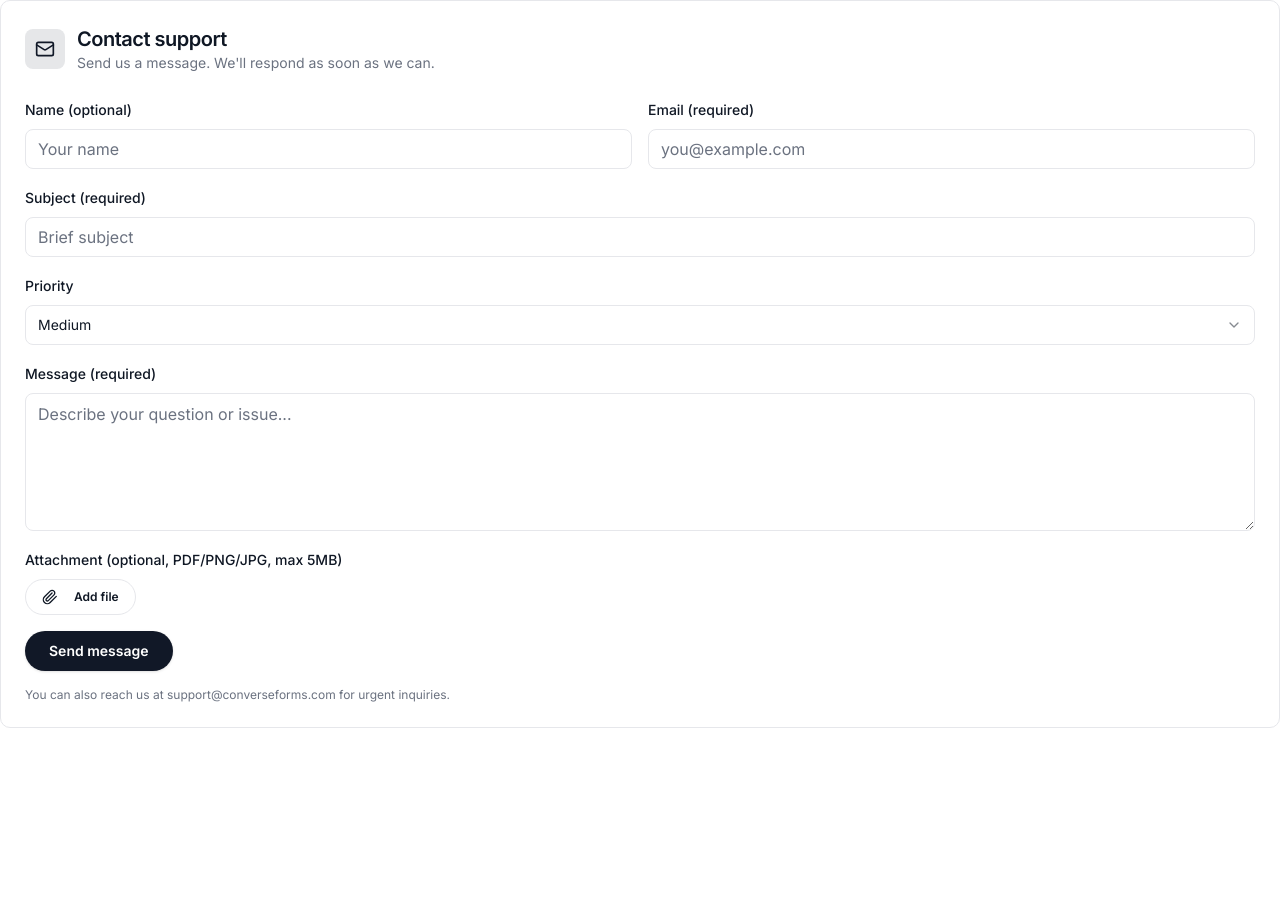
Scenario: ContactSupportForm › shows validation error when required email is empty
The width and height of the screenshot is (1280, 900).
Step 1. Type "Test subject" into the field labelled "Subject (required)" → (640, 237), box top-left (25, 217), bottom-right (1255, 257)
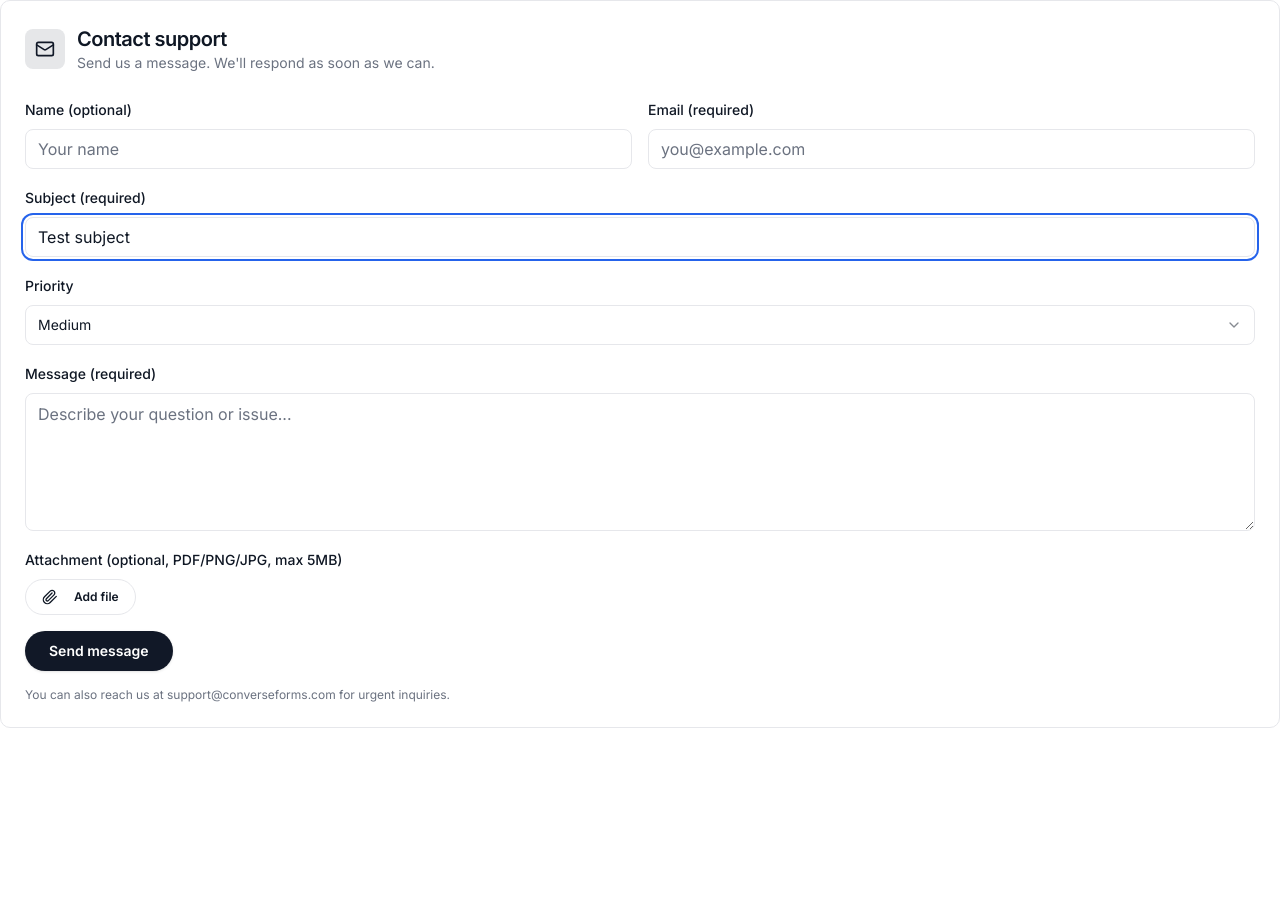
Step 2. Type "Test message" into the text box labelled "Message (required)" → (640, 462), box top-left (25, 393), bottom-right (1255, 531)
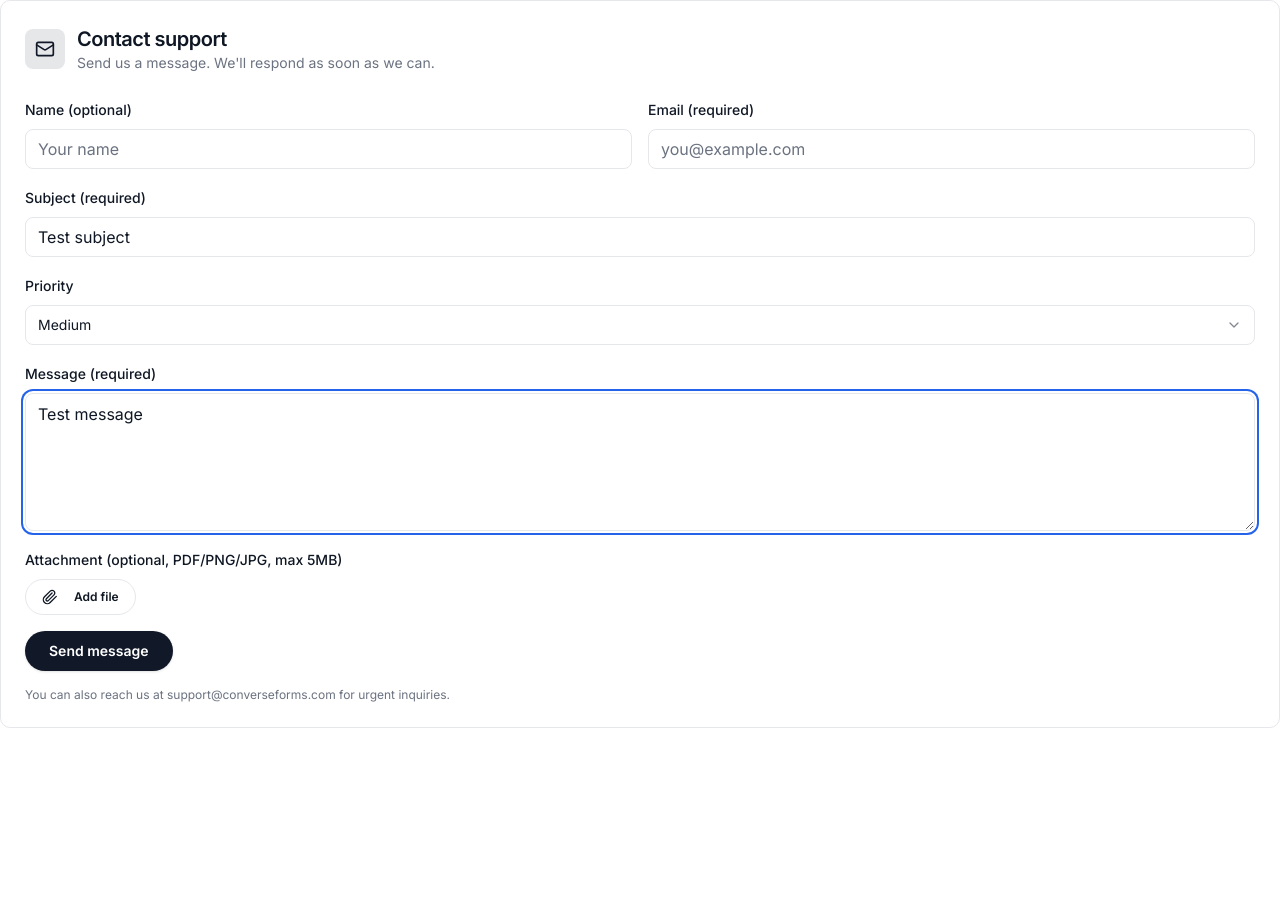
Step 3. Click the button "Send message" → (99, 651), box top-left (25, 631), bottom-right (173, 671)
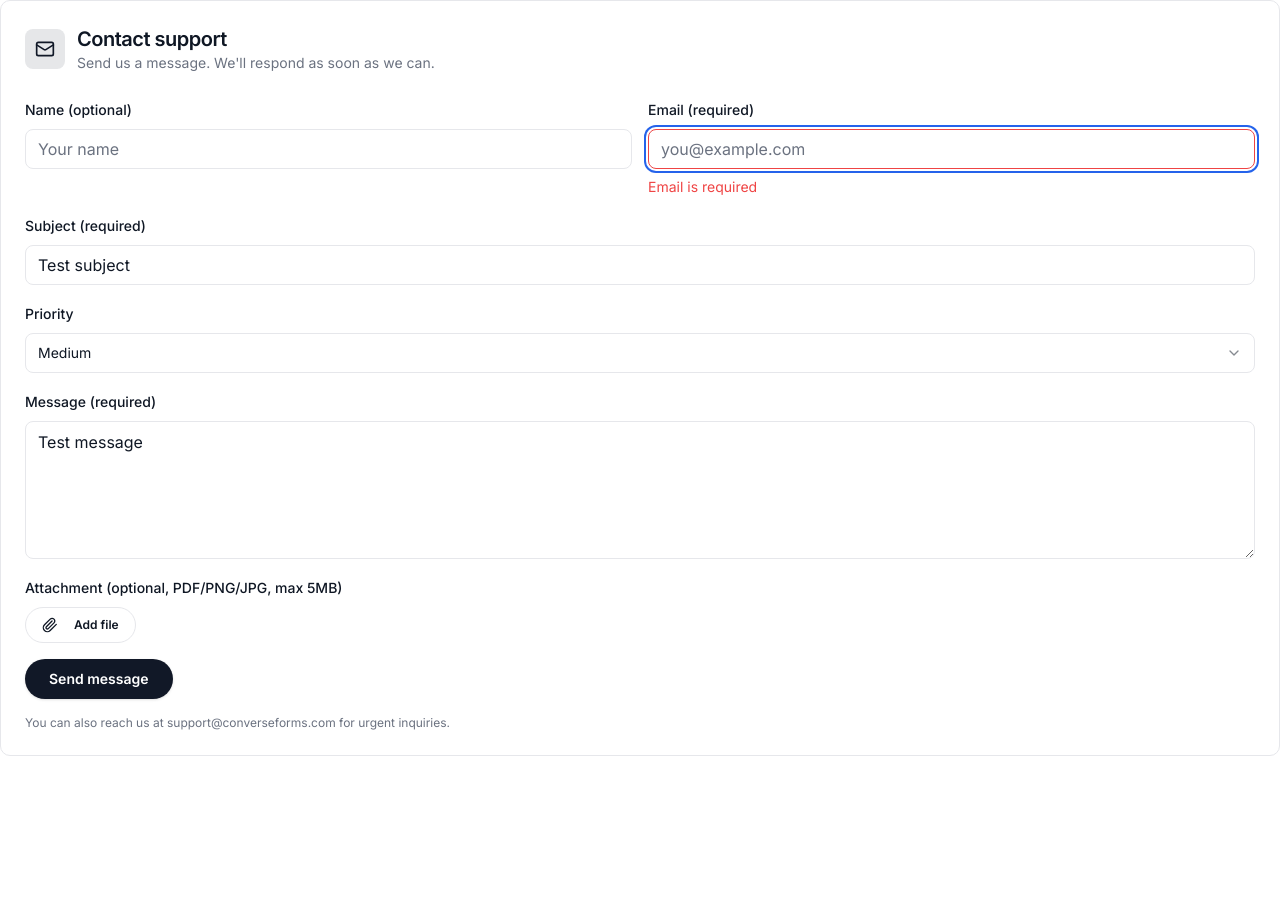
Check: the text "Email is required" is shown, box top-left (648, 178), bottom-right (757, 195)
